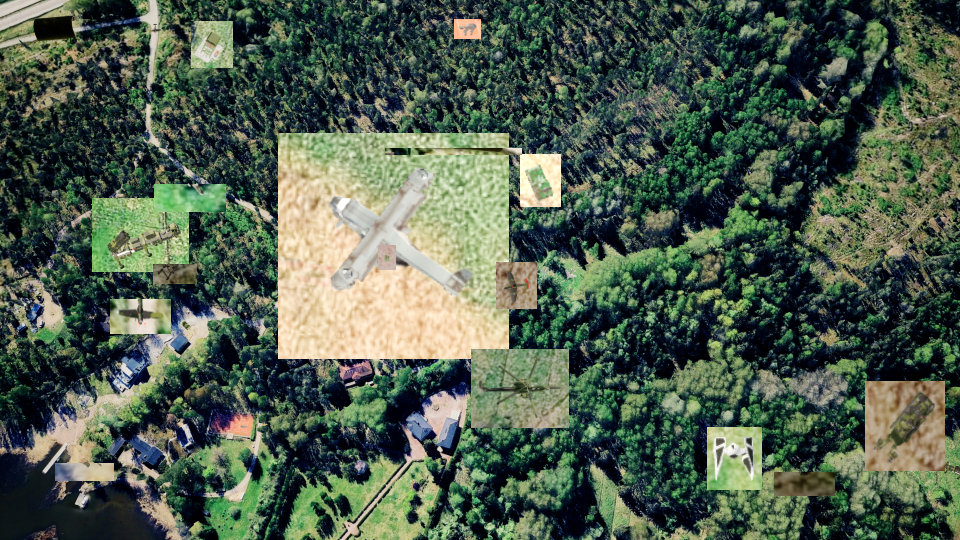condor: (278, 133, 509, 359)
hangar: (385, 148, 522, 155)
helicopter: (471, 349, 569, 428)
jammer: (520, 154, 561, 207)
jet_plane: (154, 184, 226, 212)
large_launcher: (92, 198, 189, 272)
large_tower: (153, 264, 197, 284)
medium_launcher: (774, 472, 835, 496)
medium_plane: (110, 299, 171, 334)
mine_roller: (865, 381, 945, 471)
small_launcher: (378, 245, 396, 270)
small_plane: (496, 262, 537, 309)
small_tower: (191, 21, 233, 68)
spacecraft: (707, 427, 762, 490)
ta-ta: (454, 19, 481, 39)
tank: (55, 463, 114, 481)
